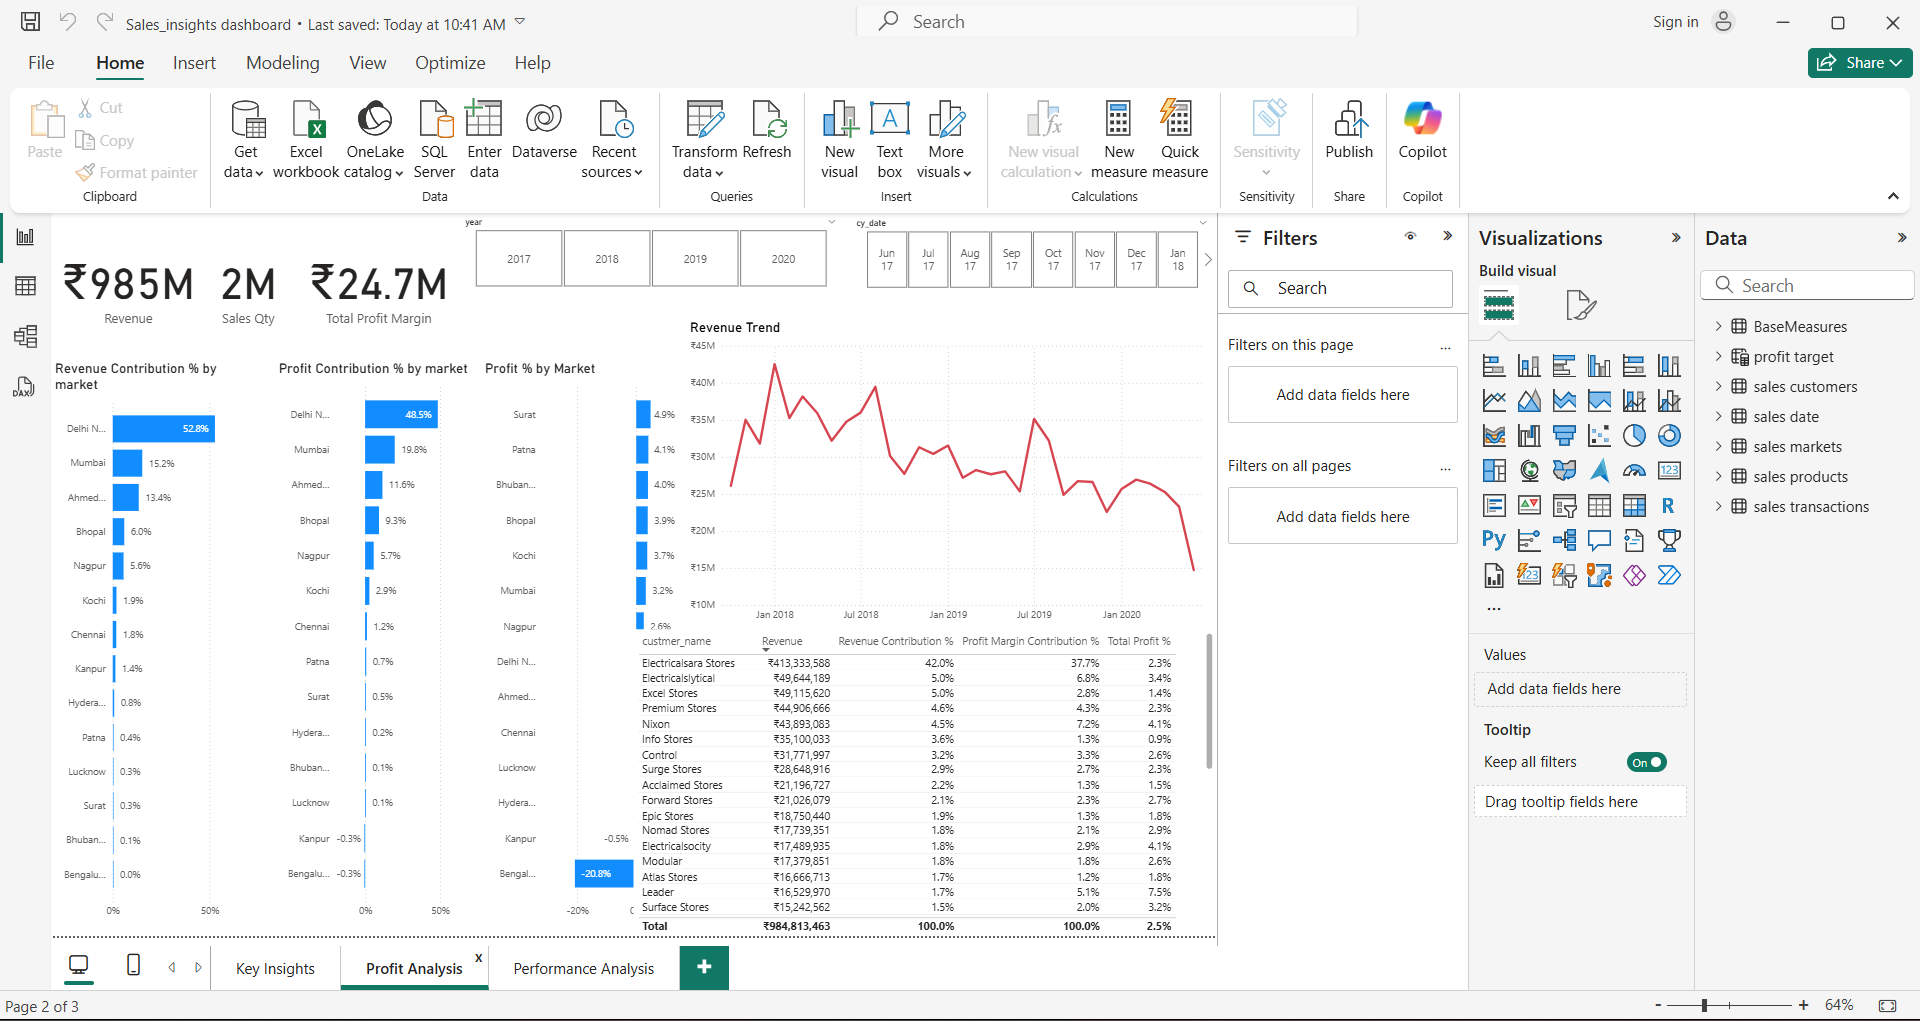

The dashboard page shown, as its layout file describes it:
{"tool":"powerbi","page":{"name":"Profit Analysis","canvas":[1450,900],"ordinal":1},"visuals":[{"type":"card","fields":{"Values":["BaseMeasures.Revenue"]},"box":[0,0,192.8,183.5],"z":0},{"type":"card","fields":{"Values":["BaseMeasures.Sales Qty"]},"box":[177.3,1.6,136.8,181.9],"z":1000},{"type":"barChart","title":"Profit % by Market","fields":{"Y":["BaseMeasures.Total Profit %"],"Category":["sales markets.markets_name"]},"box":[534.9,183.5,255,702.8],"z":2000},{"type":"barChart","title":"Revenue Contribution % by market","fields":{"Y":["BaseMeasures.Revenue Contribution %"],"Category":["sales markets.markets_name"]},"box":[0,183.5,256.6,702.8],"z":3000},{"type":"slicer","fields":{"Values":["sales date.year"]},"box":[502.2,0,486.7,98],"z":4000},{"type":"slicer","fields":{"Values":["sales date.cy_date"]},"box":[988.9,1.6,461.8,98],"z":5000},{"type":"tableEx","title":"Top 5 Customers","fields":{"Values":["sales customers.custmer_name","BaseMeasures.Revenue","BaseMeasures.Revenue Contribution %","BaseMeasures.Profit Margin Contribution %","BaseMeasures.Total Profit %"]},"box":[724.6,517.8,726.2,382.5],"z":6000},{"type":"lineChart","title":"Revenue Trend","fields":{"Y":["BaseMeasures.Revenue"],"Category":["sales date.cy_date"]},"box":[789.9,132.2,660.9,385.6],"z":7000},{"type":"card","fields":{"Values":["BaseMeasures.Total Profit Margin"]},"box":[314,2,188,182],"z":8000},{"type":"barChart","title":"Profit Contribution % by market","fields":{"Y":["BaseMeasures.Profit Margin Contribution %"],"Category":["sales markets.markets_name"]},"box":[278.3,183.5,256.6,702.8],"z":9000}]}

Visuals, with their boxes on the page's 1450x900 design canvas (x1, y1, x2, y2). These are canvas units, not pixel positions in the 1920x1021 screenshot, which may show the page scaled, cropped or inside an application window:
card - BaseMeasures.Revenue: left=0, top=0, right=193, bottom=184
card - BaseMeasures.Sales Qty: left=177, top=2, right=314, bottom=184
"Profit % by Market" barChart: left=535, top=184, right=790, bottom=886
"Revenue Contribution % by market" barChart: left=0, top=184, right=257, bottom=886
slicer - sales date.year: left=502, top=0, right=989, bottom=98
slicer - sales date.cy_date: left=989, top=2, right=1451, bottom=100
"Top 5 Customers" tableEx: left=725, top=518, right=1451, bottom=900
"Revenue Trend" lineChart: left=790, top=132, right=1451, bottom=518
card - BaseMeasures.Total Profit Margin: left=314, top=2, right=502, bottom=184
"Profit Contribution % by market" barChart: left=278, top=184, right=535, bottom=886
